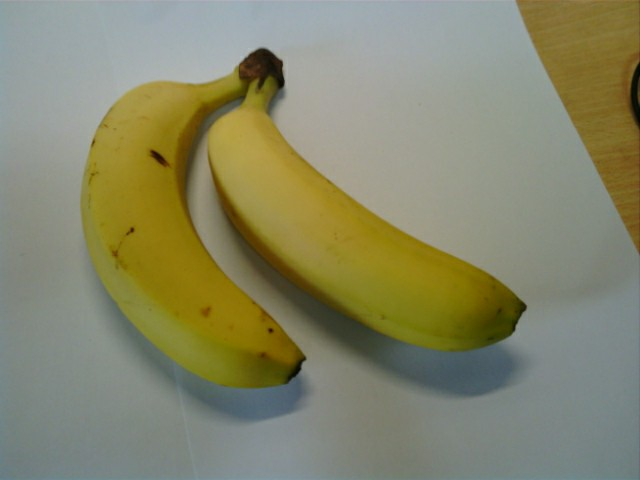fresh_banana: (210, 109, 525, 348)
normal_banana: (78, 77, 303, 390)
